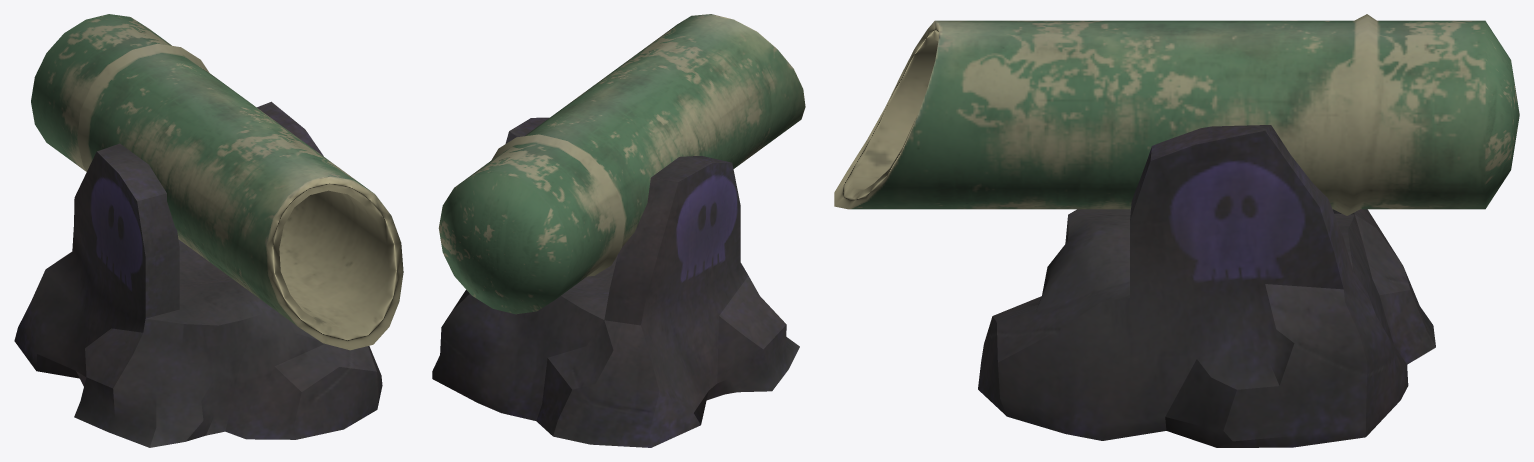
Rendered from Model_Gimmick_Cannon.fbx.
The picture shows the model from 3 angles, left to right: view 1: azimuth 30°, elevation 25°; view 2: azimuth 150°, elevation 25°; view 3: azimuth 270°, elevation 25°; orthographic projection. The views are drawn at different scales.
Parts seen in each view (by area): view 1: polySurface2, polySurface1; view 2: polySurface2, polySurface1; view 3: polySurface1, polySurface2.
Boxes of the visible parts, x1,y1,x2,y2 form: polySurface2: (14, 101, 382, 447); polySurface1: (31, 14, 403, 350); polySurface2: (432, 117, 799, 447); polySurface1: (438, 14, 805, 314); polySurface1: (834, 14, 1519, 215); polySurface2: (978, 125, 1435, 447).
Bounding box in the file's own units: 4.33 × 3.99 × 7.24.
Materials: 1 (1 with a texture image).
